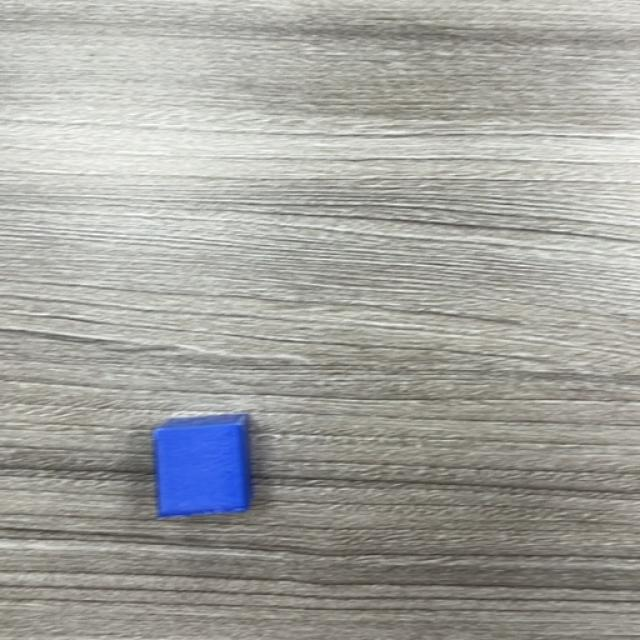Azul: (152, 415, 251, 519)
